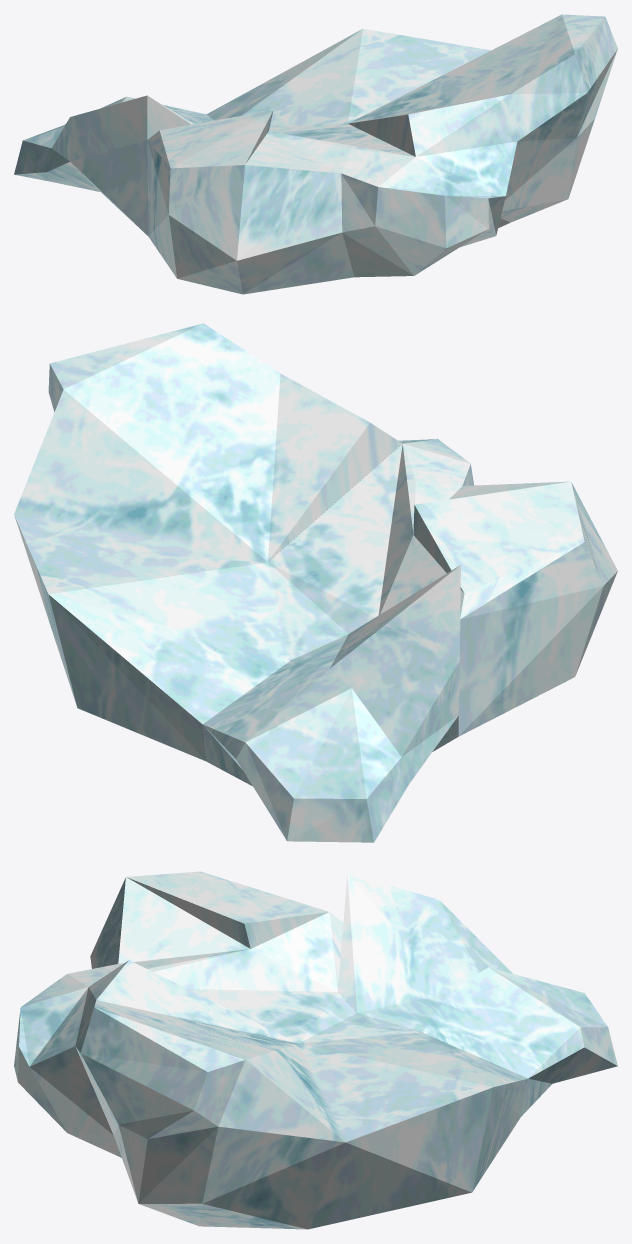
File: C1SNICECHUNKS_H.bgf.obj
3 views of the same model, one above another, from view 1: azimuth 30°, elevation 25°; view 2: azimuth 150°, elevation 25°; view 3: azimuth 270°, elevation 25° (orthographic). The views are drawn at different scales.
Visible parts, largest first — view 1: OBJECT03, OBJECT01, OBJECT02, OBJECT04, C1SNICECHUNKS; view 2: OBJECT01, OBJECT03, OBJECT04, C1SNICECHUNKS, OBJECT02; view 3: OBJECT01, OBJECT04, OBJECT03, OBJECT02, C1SNICECHUNKS.
Boxes of the visible parts, x1,y1,x2,y2 form: OBJECT03: (147,110,414,294); OBJECT01: (348,14,617,227); OBJECT02: (341,141,517,277); OBJECT04: (14,95,213,235); C1SNICECHUNKS: (206,29,362,134); OBJECT01: (14,323,402,707); OBJECT03: (268,444,617,736); OBJECT04: (202,565,460,842); C1SNICECHUNKS: (48,562,374,761); OBJECT02: (398,439,473,485); OBJECT01: (75,960,493,1229); OBJECT04: (338,873,617,1116); OBJECT03: (90,871,343,1043); OBJECT02: (14,964,121,1157); C1SNICECHUNKS: (299,992,527,1191).
Bounding box in the file's own units: 14.96 × 6.41 × 14.71.
Materials: 5 (5 with a texture image).
